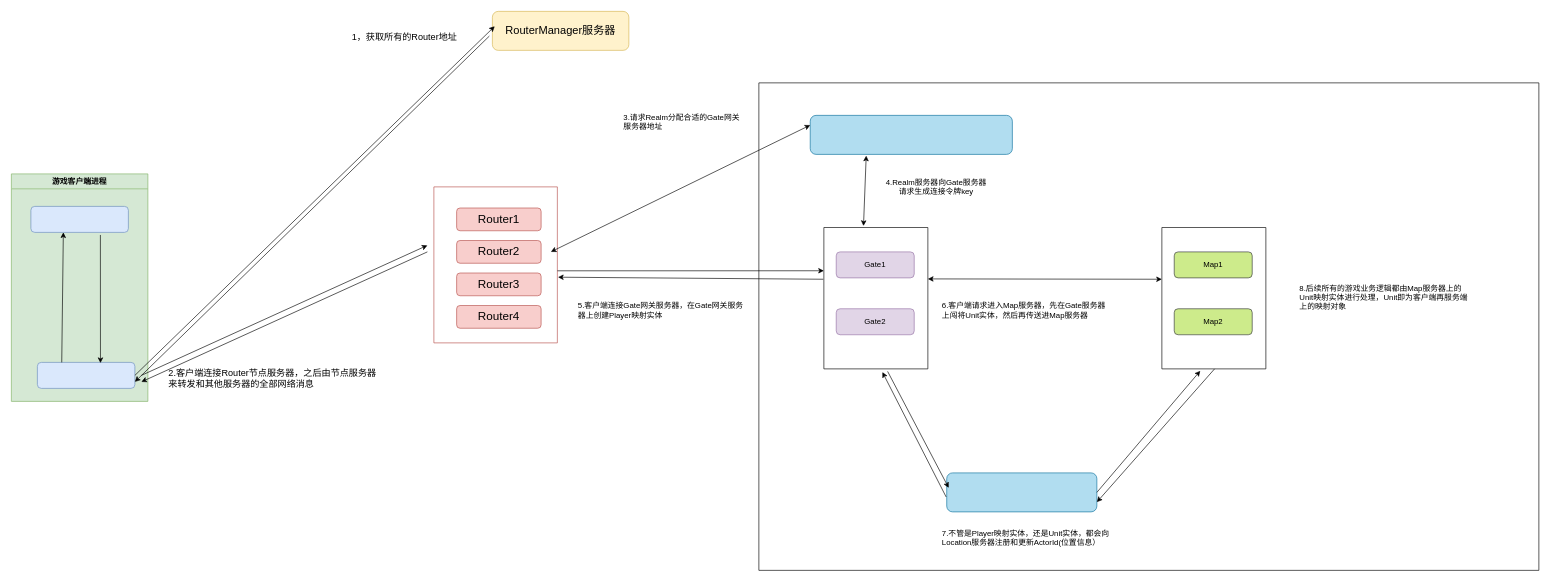
The diagram is 1550 pixels wide and 582 high, and some of its shapes have lost their labels. The shapes that lost their labels are listed below. From the top down, each one's centre as x and y in pixels, then its label:
pixel 911 134: Realm网关负载均衡服务器
pixel 79 219: Main Fiber
pixel 86 375: NetClient Fiber
pixel 1021 492: Location定位服务器
